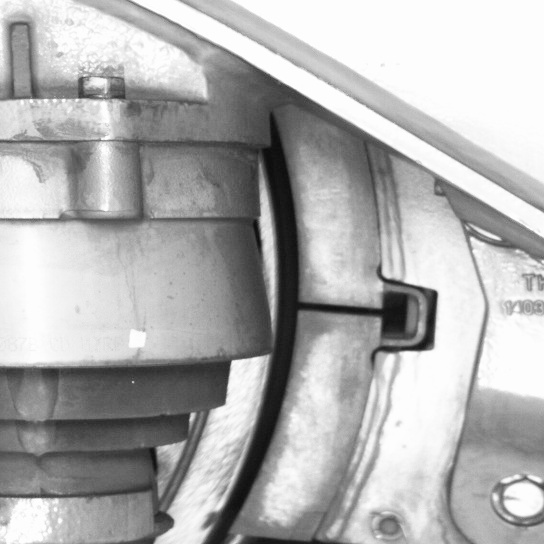KnifeSwitch: (201, 142, 404, 542)
